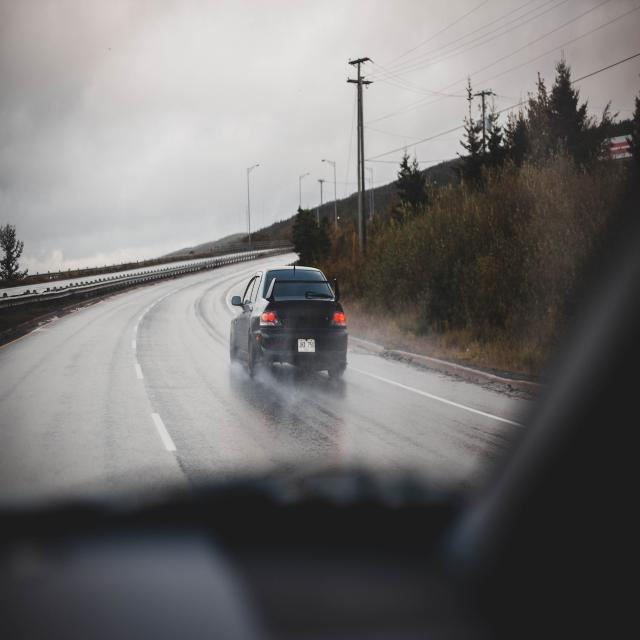car: (229, 264, 348, 379)
